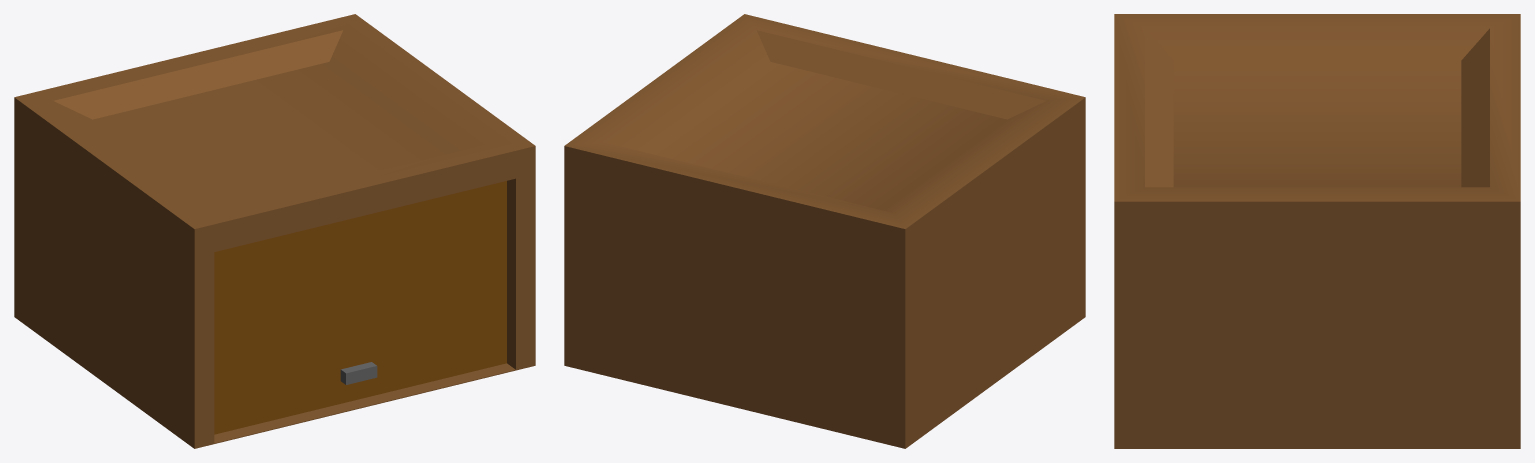
The model's file is garage.fbx.
The picture shows the model from 3 angles, left to right: view 1: azimuth 30°, elevation 25°; view 2: azimuth 150°, elevation 25°; view 3: azimuth 270°, elevation 25°; orthographic projection. The views are drawn at different scales.
Parts seen in each view (by area): view 1: polySurface1; view 2: polySurface1; view 3: polySurface1.
Part boxes in pixels (<box>): polySurface1: <box>14,14,535,448</box>; polySurface1: <box>564,14,1085,448</box>; polySurface1: <box>1114,14,1520,448</box>.
Bounding box in the file's own units: 1.3 × 0.7982 × 1.19.
